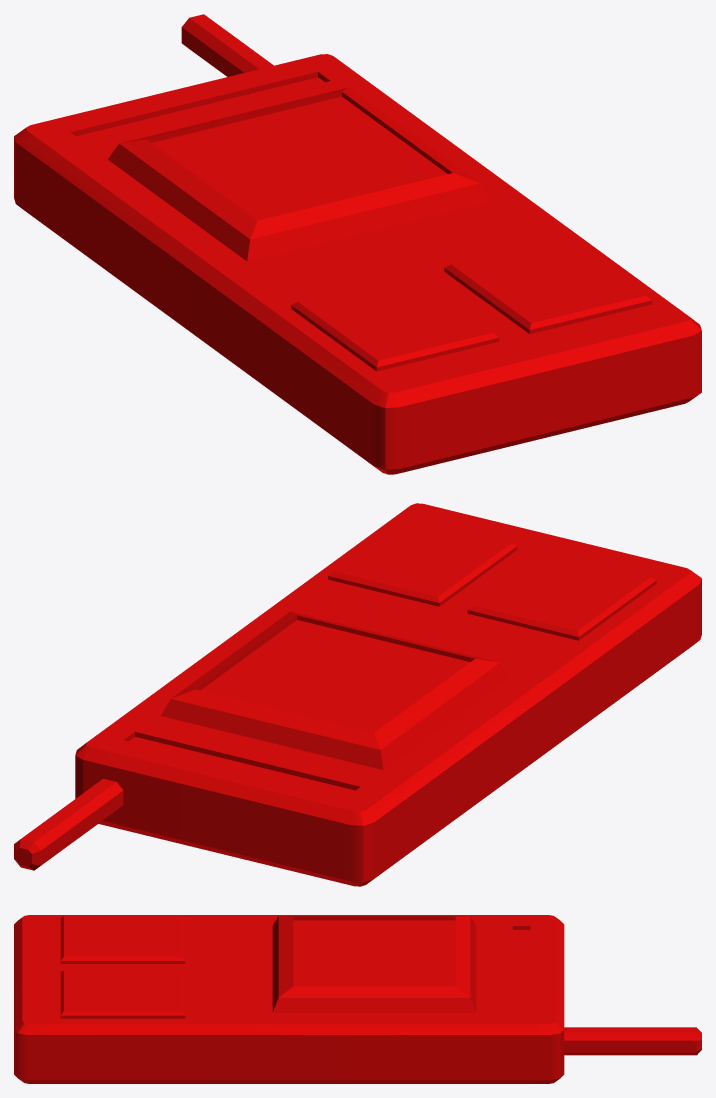
Rendered from Remote_V2.fbx.
3 renders of one model, top to bottom at view 1: azimuth 30°, elevation 25°; view 2: azimuth 150°, elevation 25°; view 3: azimuth 270°, elevation 25°, orthographic. The views are drawn at different scales.
Parts seen in each view (by area): view 1: Remote; view 2: Remote; view 3: Remote.
Boxes of the visible parts, x1,y1,x2,y2 form: Remote: (14, 14, 701, 474); Remote: (14, 503, 701, 886); Remote: (14, 915, 701, 1083).
Bounding box in the file's own units: 0.125 × 0.039 × 0.3125.
